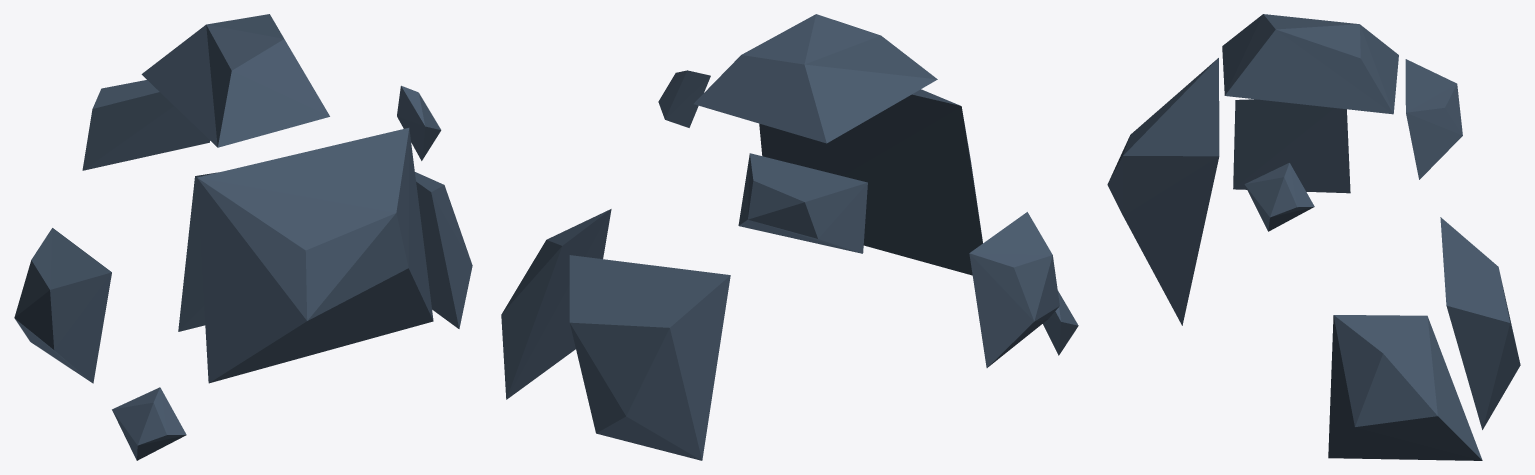
File: IronOreA.fbx
The picture shows the model from 3 angles, left to right: view 1: azimuth 30°, elevation 25°; view 2: azimuth 150°, elevation 25°; view 3: azimuth 270°, elevation 25°; orthographic projection. The views are drawn at different scales.
Parts seen in each view (by area): view 1: IronOreA; view 2: IronOreA; view 3: IronOreA.
Part boxes in pixels (<box>): IronOreA: <box>14,14,472,460</box>; IronOreA: <box>501,14,1078,460</box>; IronOreA: <box>1107,14,1520,460</box>.
Bounding box in the file's own units: 55.48 × 41.45 × 44.31.
